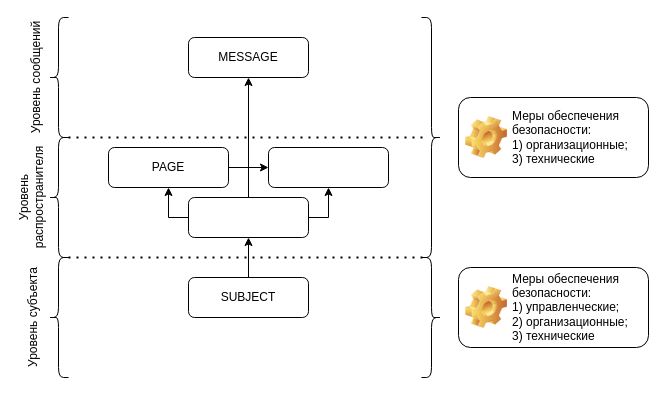
Some shapes in this 666 by 395 pixel diagram are drawn without their labels. Here are the shapes that lost their labels. From the top down, the centre of each, then its label:
point 328,167: GROUP
point 248,217: ACCAUNT
